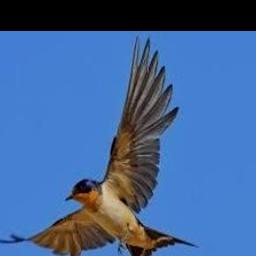Swallow: (0, 36, 200, 256)
